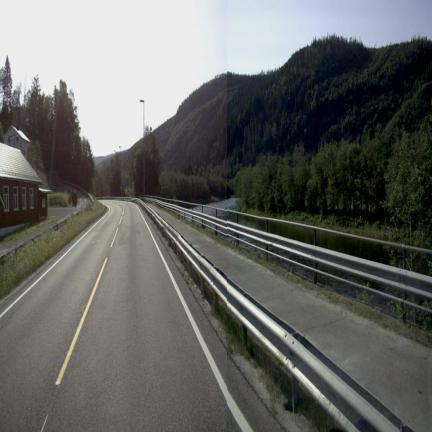Road: (0, 202, 279, 430)
